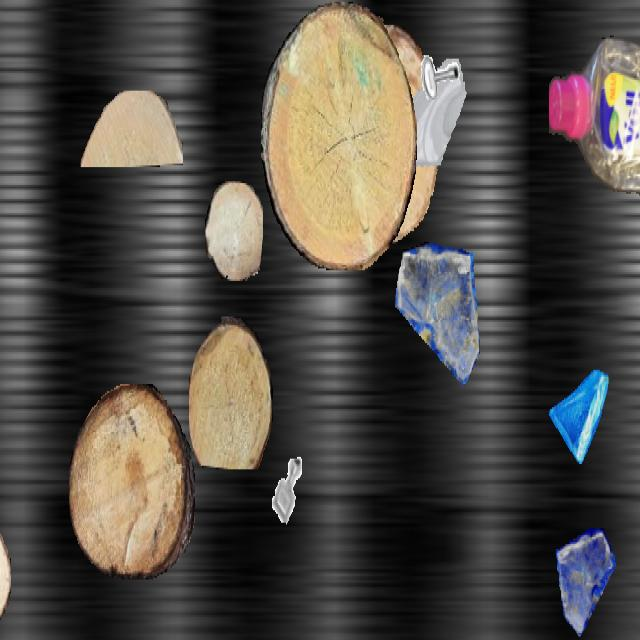glass: (395, 242, 479, 391), (395, 58, 471, 194), (555, 528, 617, 638), (548, 357, 608, 464)
metal: (410, 2, 464, 98), (262, 444, 314, 537)
plastic: (549, 32, 640, 224)
wood: (261, 2, 417, 268), (321, 25, 439, 245), (69, 384, 195, 580), (189, 316, 273, 469), (80, 91, 182, 165), (205, 181, 263, 281), (0, 522, 10, 626), (639, 76, 640, 198)
